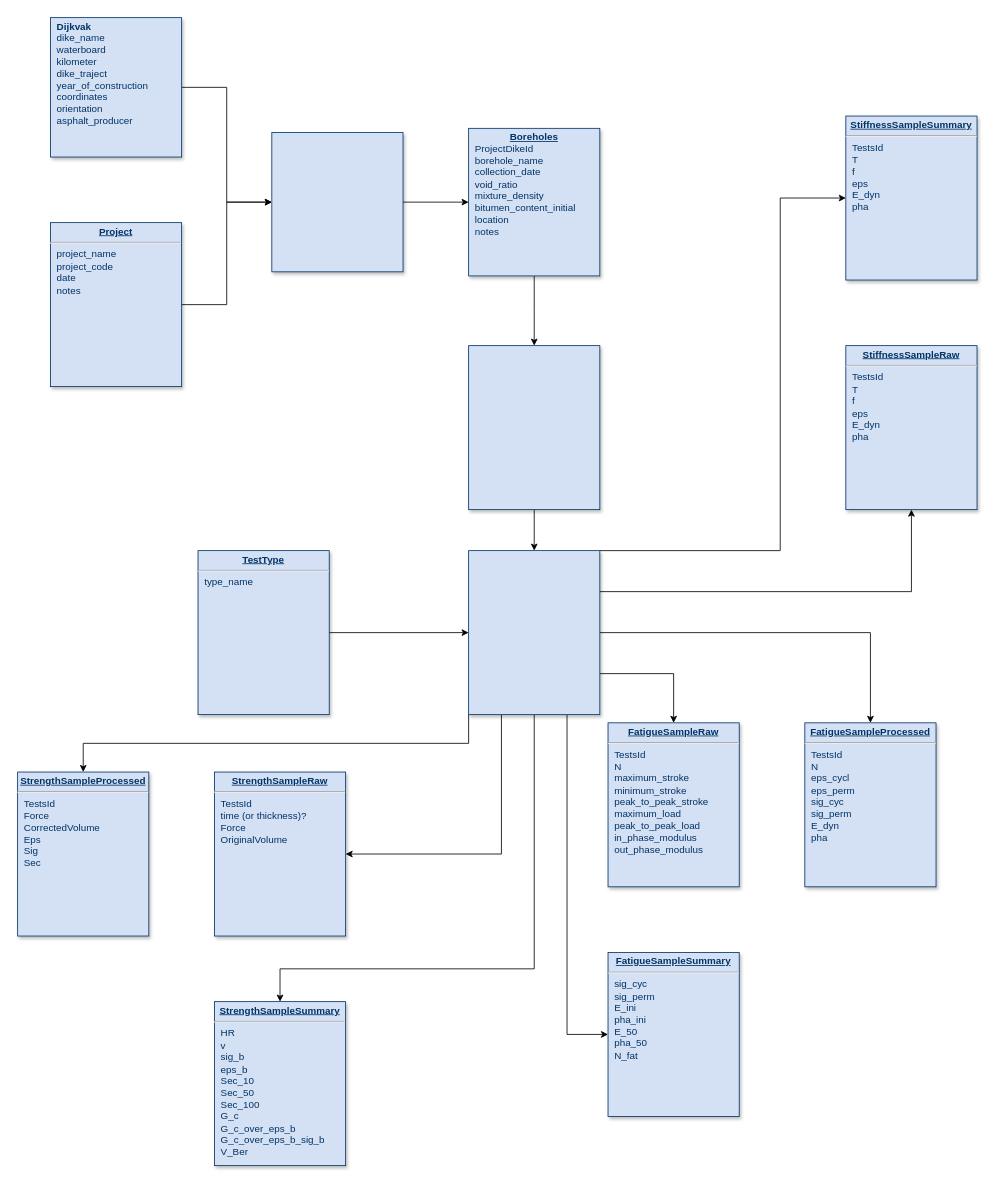
Image size: 996x1186. Some labels were removed from this diagram. Each missing label, with the centre of its shape:
"ProjectDike project_id dike_id" goes at (338,203).
"Samples BoreholesId sample_name depth notes sample_density" goes at (535,428).
"Tests SamplesId TestTypeId" goes at (535,633).
